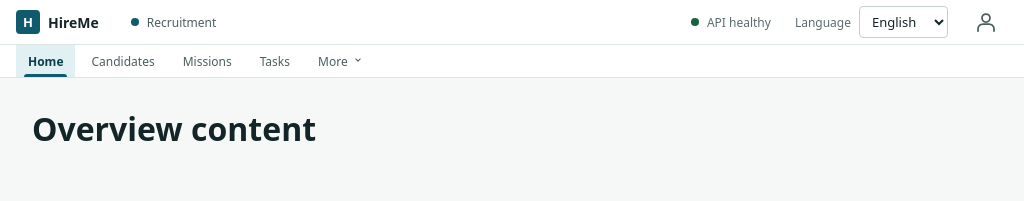
AppShell › renders permission-aware semantic navigation and an active destination
Expected: the navigation bar named "Primary navigation" is shown, top-left (0, 45), bottom-right (1023, 78)
Expected: the link "Tasks" is shown, top-left (260, 52), bottom-right (290, 70)
Click the heading named "Account and session" at (986, 22), box top-left (974, 10), bottom-right (998, 34)
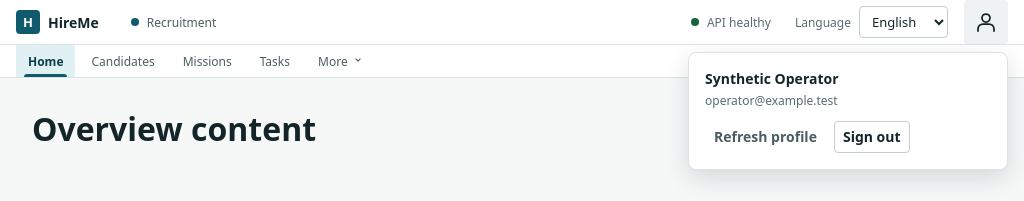
Expected: the text "operator@example.test" is shown, top-left (705, 92), bottom-right (838, 109)
